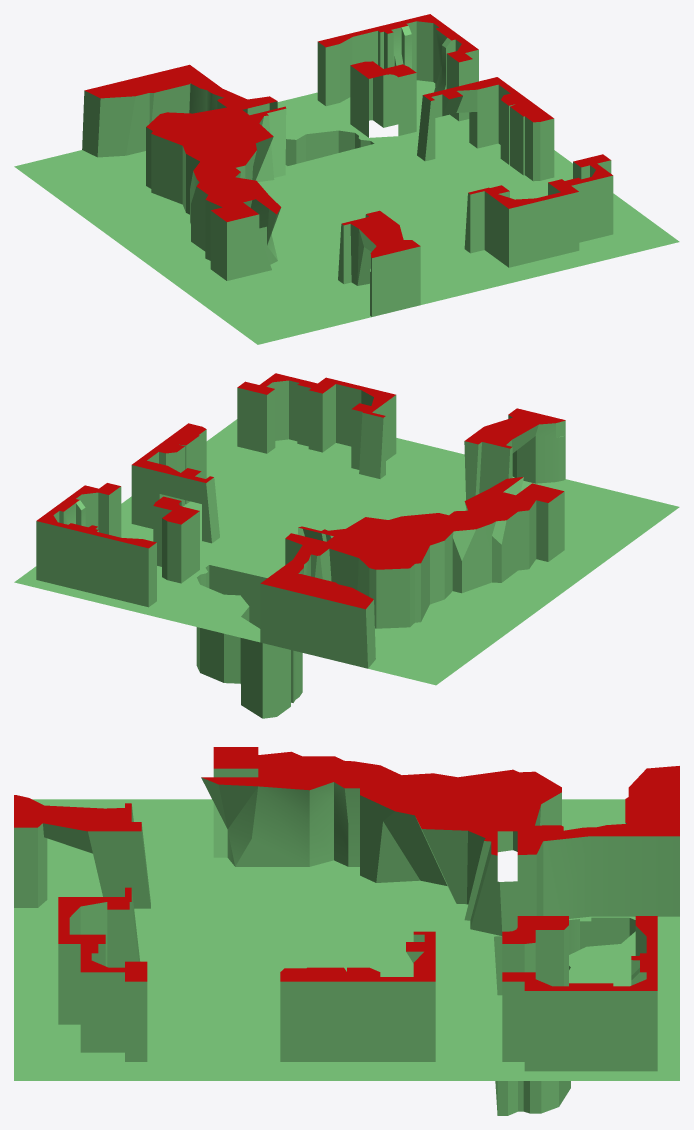
The model's file is x_oo_ground_59_B1_1_rmstrd.fbx.
3 views of the same model, one above another, from view 1: azimuth 30°, elevation 25°; view 2: azimuth 150°, elevation 25°; view 3: azimuth 270°, elevation 25° (orthographic). The views are drawn at different scales.
Parts seen in each view (by area): view 1: x_oo_ground_59_B1_1_rmstrd1; view 2: x_oo_ground_59_B1_1_rmstrd1; view 3: x_oo_ground_59_B1_1_rmstrd1.
Part boxes in pixels (left/top/right/bottom): x_oo_ground_59_B1_1_rmstrd1: left=14, top=14, right=679, bottom=344; x_oo_ground_59_B1_1_rmstrd1: left=14, top=373, right=679, bottom=718; x_oo_ground_59_B1_1_rmstrd1: left=14, top=747, right=679, bottom=1115.
Size of the model in its own units: 30 by 10 by 30.
